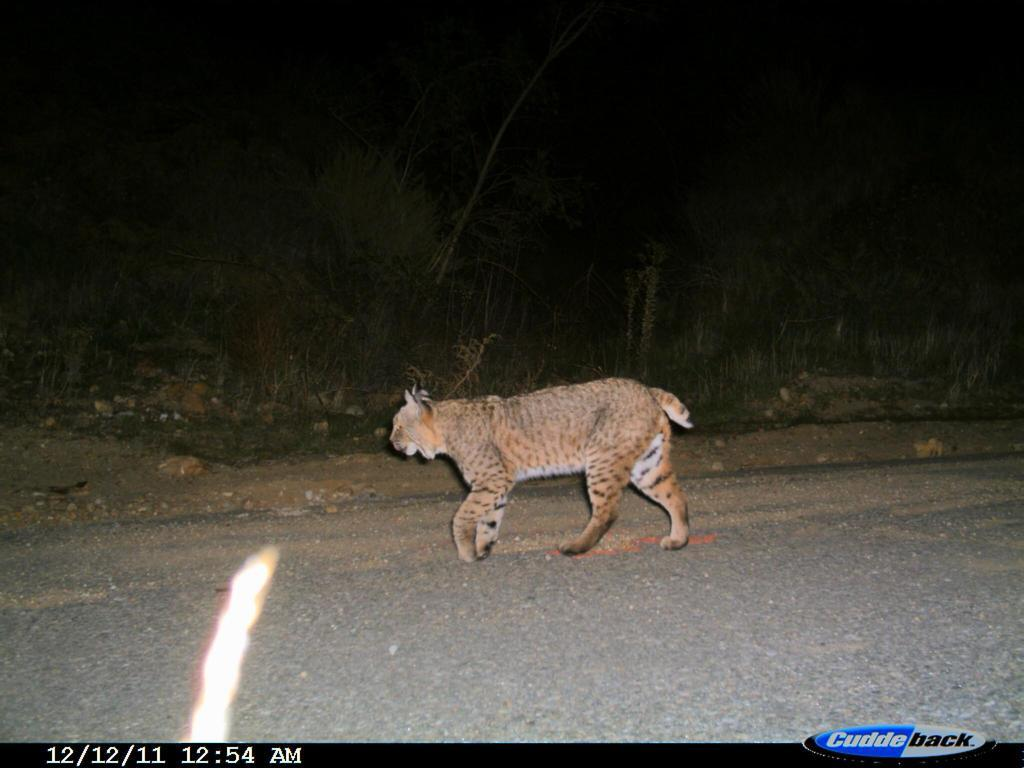bobcat: (385, 372, 707, 570)
